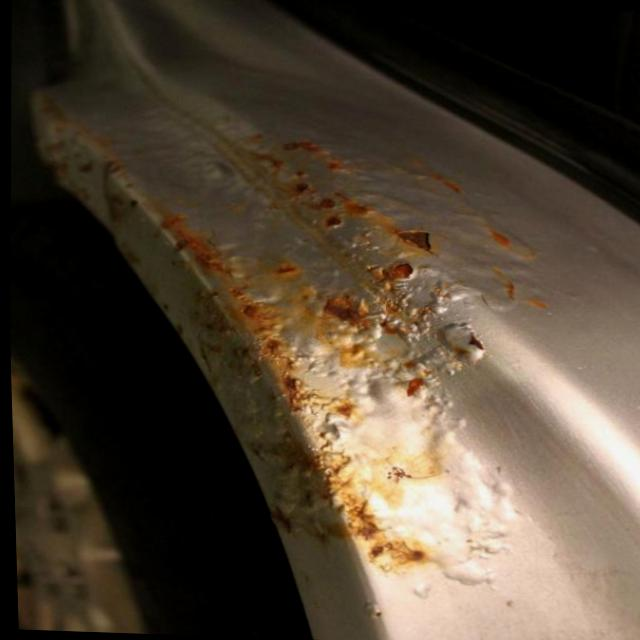Rust: (28, 85, 554, 591)
